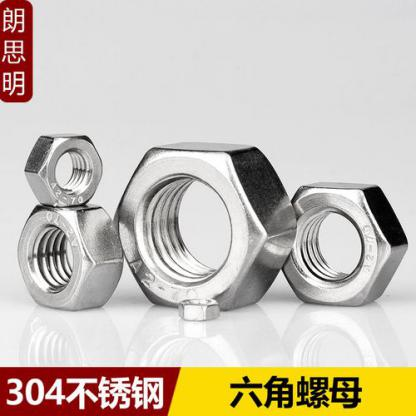FOD: (111, 139, 298, 314), (277, 178, 410, 310), (14, 202, 124, 312), (22, 130, 107, 210), (175, 298, 220, 322)
